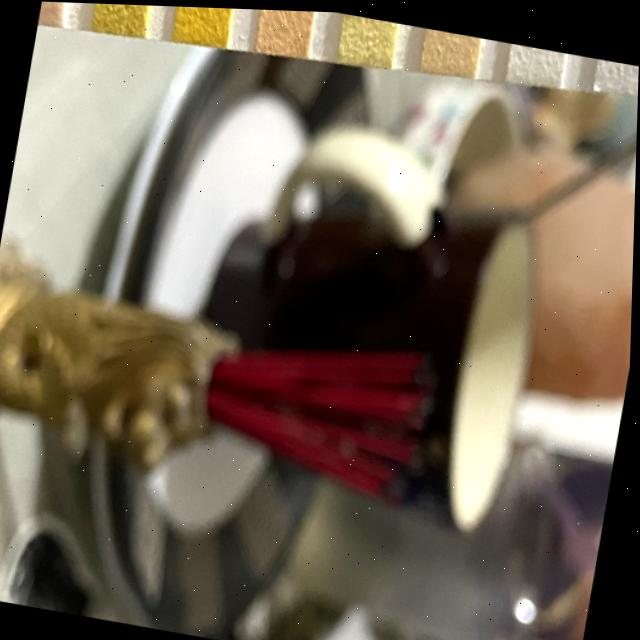Blood: (172, 5, 232, 47)
Ketone: (37, 1, 69, 26)
Leukocytes: (594, 53, 639, 92)
Nitrite: (507, 39, 567, 84)
Protein: (338, 10, 399, 65)
SpGravity: (93, 3, 154, 36)
Urobilinogen: (421, 24, 481, 73)
pH: (255, 7, 316, 57)
